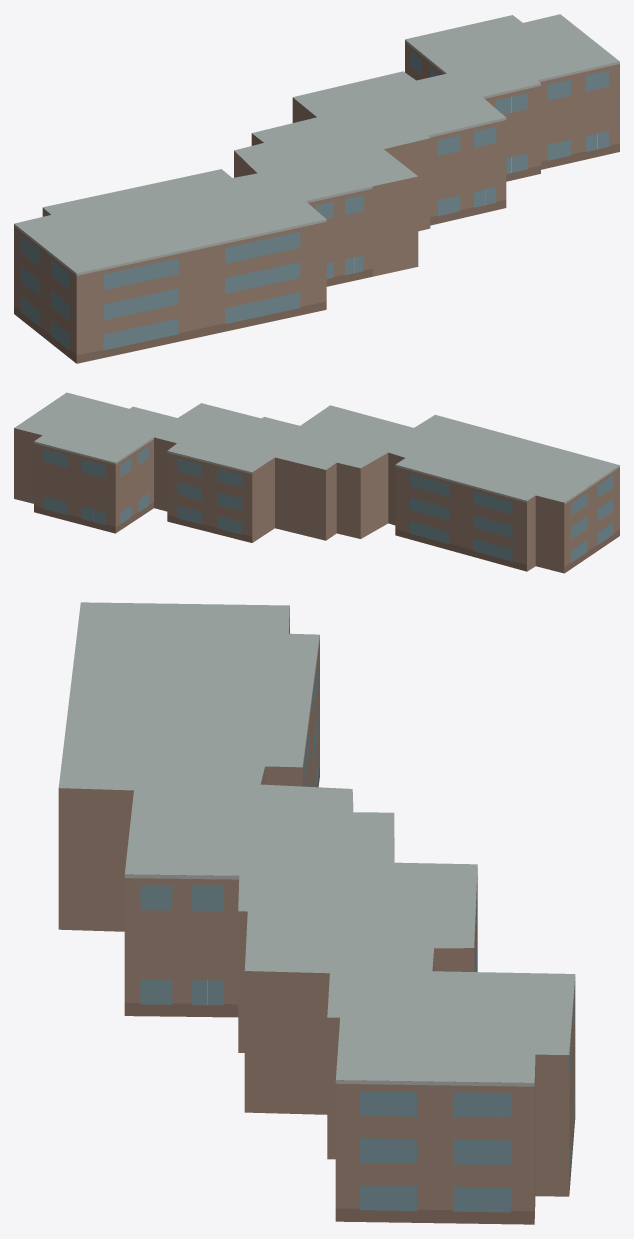
The model's file is survey-upis-32886324.glb.
3 views of the same model, one above another, from view 1: azimuth 30°, elevation 25°; view 2: azimuth 150°, elevation 25°; view 3: azimuth 270°, elevation 25° (orthographic). The views are drawn at different scales.
Parts seen in each view (by area): view 1: survey-upis-32886324.tmp; view 2: survey-upis-32886324.tmp; view 3: survey-upis-32886324.tmp.
Boxes of the visible parts, <box> form: survey-upis-32886324.tmp: <box>14,14,619,363</box>; survey-upis-32886324.tmp: <box>14,392,619,573</box>; survey-upis-32886324.tmp: <box>58,602,575,1224</box>.
Size of the model in its own units: 66.6 by 9.15 by 30.27.
